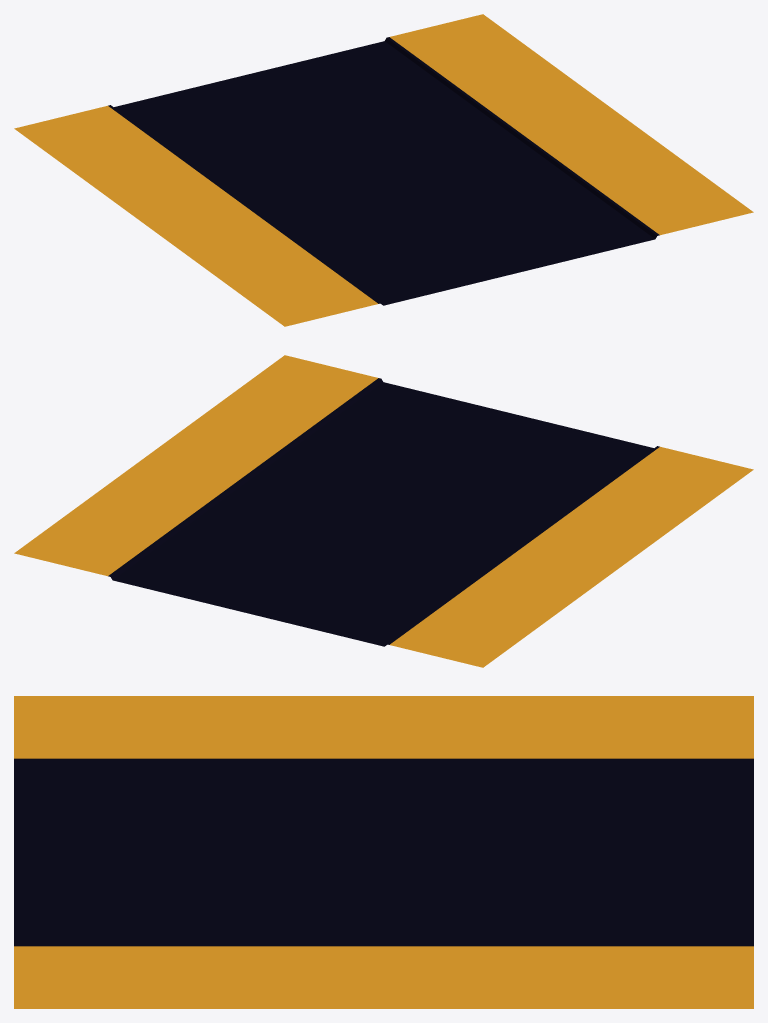
Rendered from Road.fbx.
3 renders of one model, top to bottom at view 1: azimuth 30°, elevation 25°; view 2: azimuth 150°, elevation 25°; view 3: azimuth 270°, elevation 25°, orthographic. The views are drawn at different scales.
Parts seen in each view (by area): view 1: Road_25m_; view 2: Road_25m_; view 3: Road_25m_.
Boxes of the visible parts, x1=… form: Road_25m_: x1=14, y1=14, x2=753, y2=326; Road_25m_: x1=14, y1=355, x2=753, y2=667; Road_25m_: x1=14, y1=696, x2=753, y2=1008.
Size of the model in its own units: 10000 by 10000 by 60.
